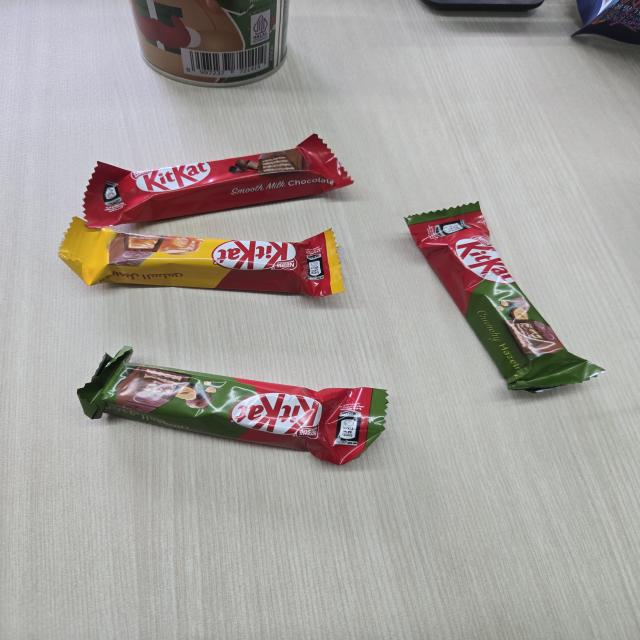chocolate-bar: (397, 198, 609, 405), (72, 342, 392, 472), (41, 210, 352, 312), (67, 130, 355, 224)
